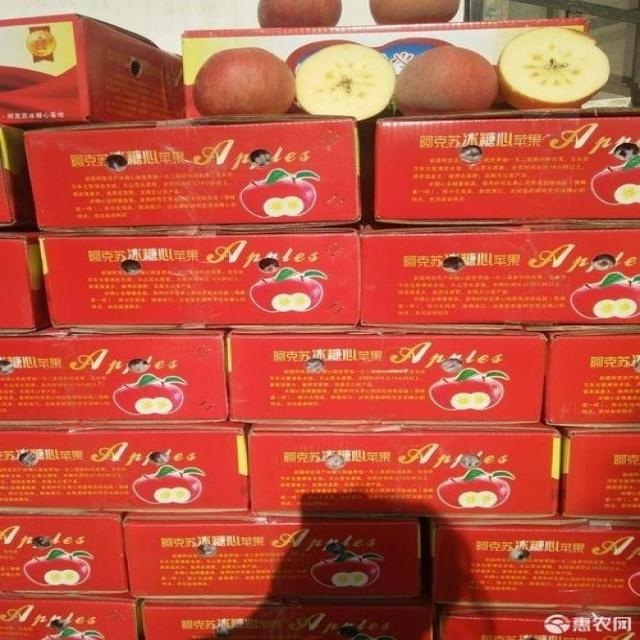box: (181, 18, 587, 122), (24, 118, 357, 232), (38, 225, 360, 330), (353, 110, 639, 226), (244, 421, 561, 520), (225, 328, 548, 424), (357, 223, 639, 329), (121, 509, 432, 601), (0, 323, 230, 425), (0, 14, 193, 132), (0, 421, 247, 510), (432, 519, 639, 611), (141, 599, 431, 639), (1, 508, 130, 594), (541, 327, 639, 426), (431, 600, 639, 639), (560, 425, 639, 520), (0, 591, 144, 639), (1, 231, 49, 332), (0, 123, 38, 234)
